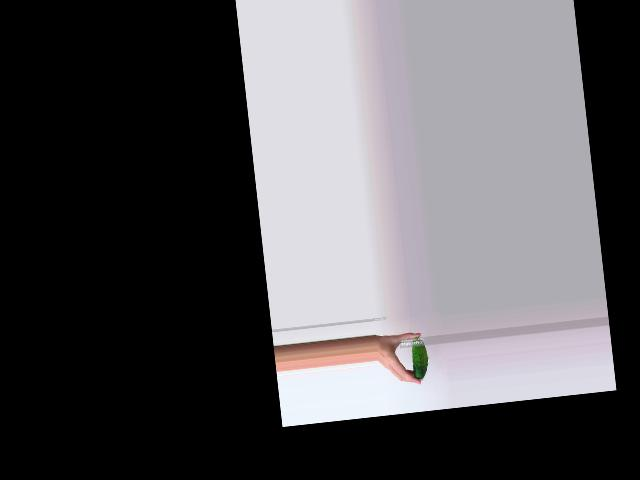cucumber: (410, 336, 430, 380)
